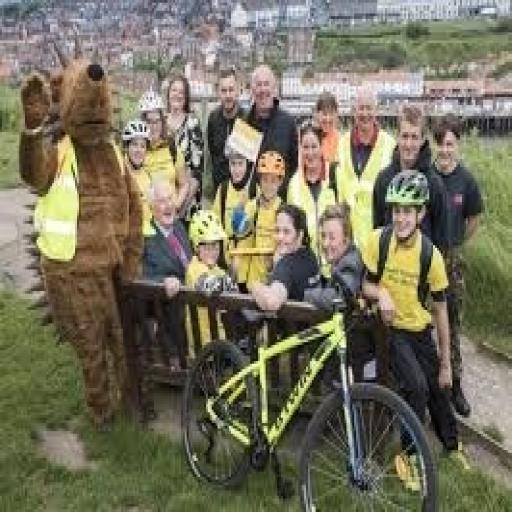cycling: (360, 167, 473, 493)
